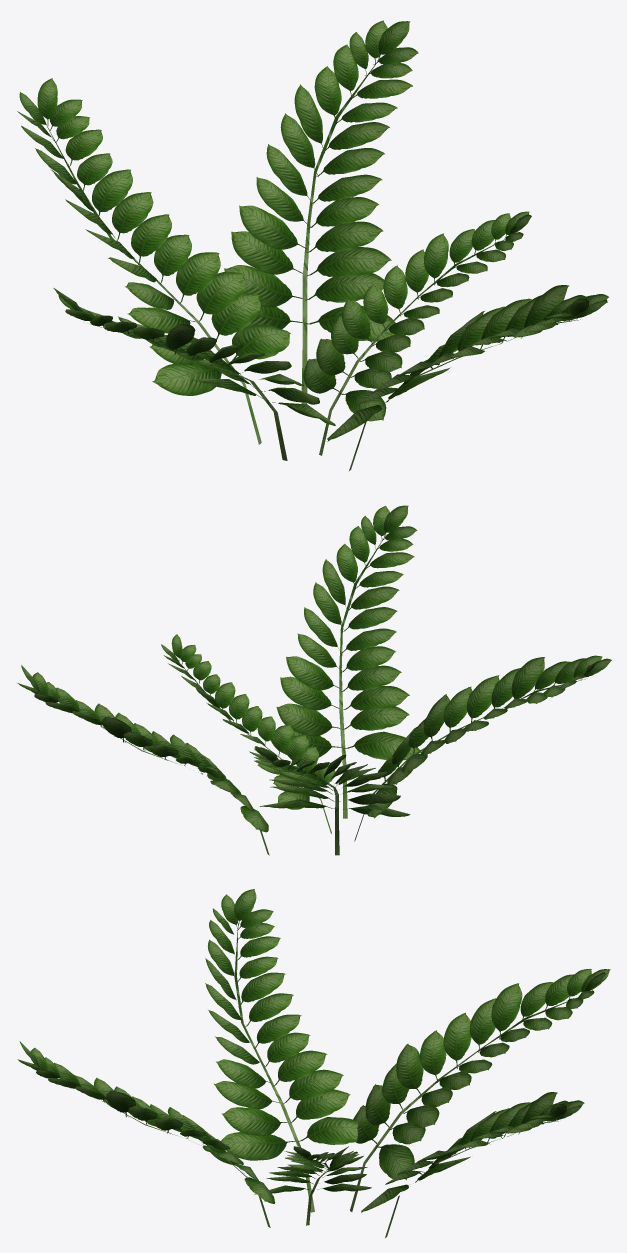
The picture shows the model from 3 angles, top to bottom: view 1: azimuth 30°, elevation 25°; view 2: azimuth 150°, elevation 25°; view 3: azimuth 270°, elevation 25°; orthographic projection. The views are drawn at different scales.
Visible parts, largest first — view 1: za_Hi; view 2: za_Hi; view 3: za_Hi.
Part boxes in pixels (x1,y1,x2,y2): za_Hi: (17,20,608,470); za_Hi: (17,505,611,855); za_Hi: (17,889,610,1237).
Size of the model in its own units: 984 by 461 by 1137.
